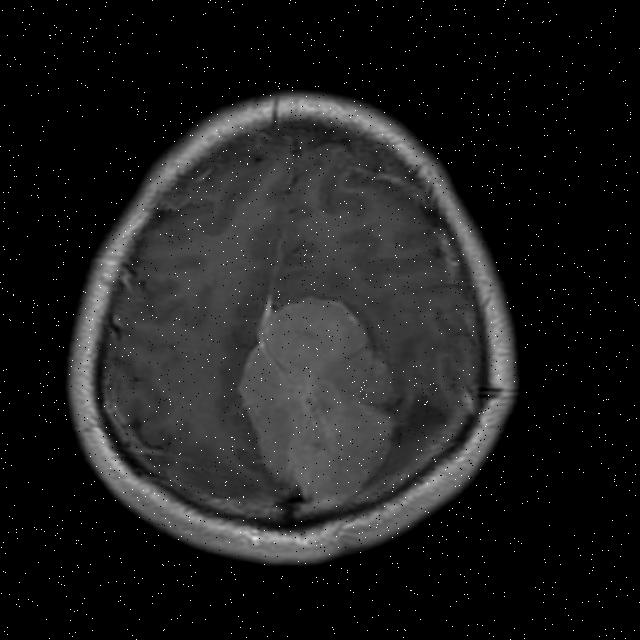Meningioma: (225, 291, 409, 508)
